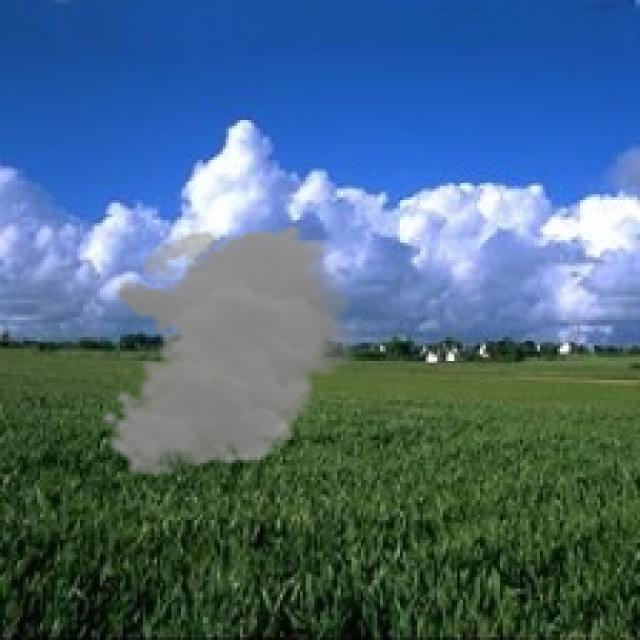Smoke: (100, 222, 366, 478)
